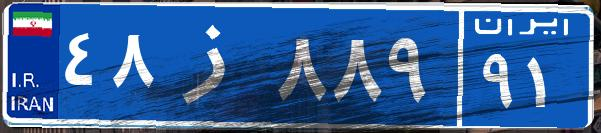1: (525, 38, 570, 115)
4: (57, 26, 110, 107)
8: (273, 28, 330, 110), (330, 28, 385, 110), (110, 28, 158, 105)
9: (385, 28, 445, 110), (475, 38, 525, 113)
ز: (158, 15, 273, 115)
